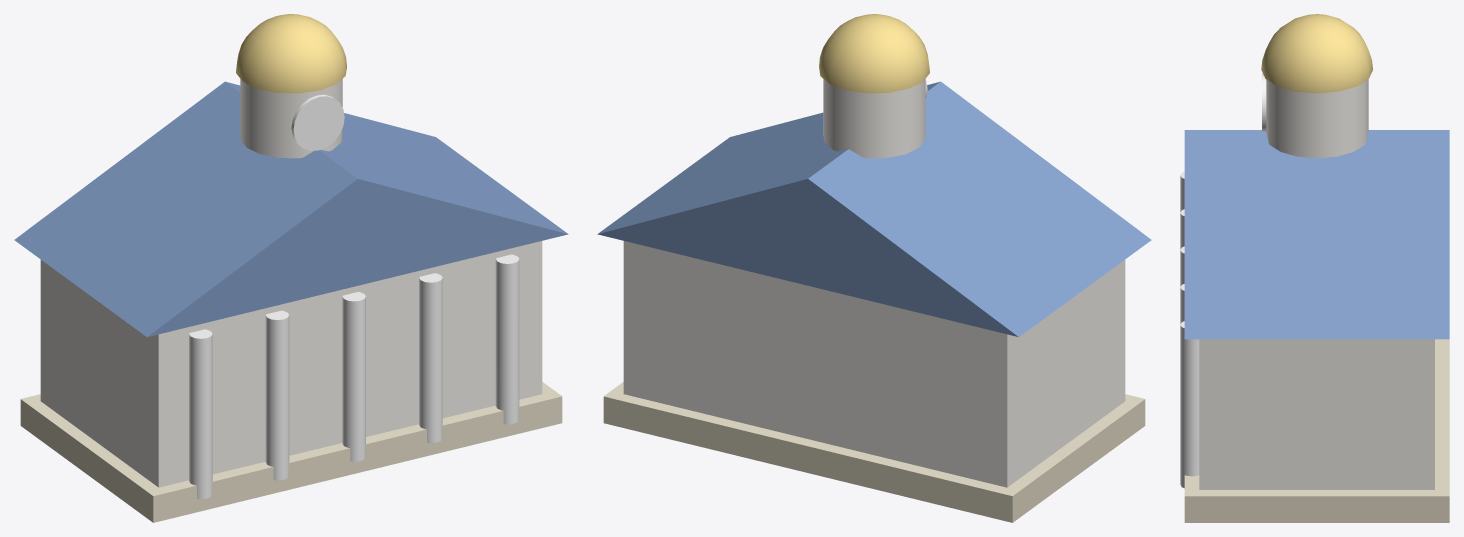
Rendered from balai_kota.glb.
The picture shows the model from 3 angles, left to right: view 1: azimuth 30°, elevation 25°; view 2: azimuth 150°, elevation 25°; view 3: azimuth 270°, elevation 25°; orthographic projection.
Parts seen in each view (by area): view 1: balai_kota; view 2: balai_kota; view 3: balai_kota.
Boxes of the visible parts, x1=… form: balai_kota: x1=14, y1=14, x2=568, y2=522; balai_kota: x1=597, y1=14, x2=1151, y2=522; balai_kota: x1=1180, y1=14, x2=1449, y2=522.
Size of the model in its own units: 3.3 by 3.03 by 1.83.
